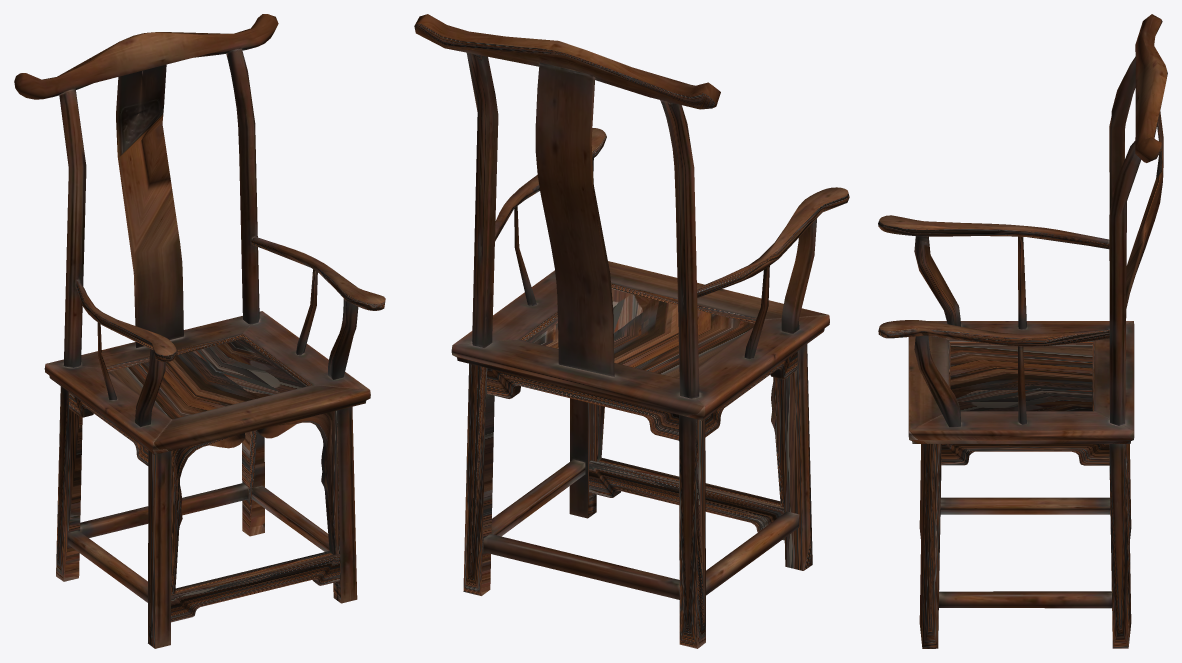
The model's file is chinese_armchair.glb.
3 renders of one model, left to right at view 1: azimuth 30°, elevation 25°; view 2: azimuth 150°, elevation 25°; view 3: azimuth 270°, elevation 25°, orthographic. The views are drawn at different scales.
Visible parts, largest first — view 1: chinese_armchair; view 2: chinese_armchair; view 3: chinese_armchair.
Boxes of the visible parts, <box> form: chinese_armchair: <box>14,14,385,648</box>; chinese_armchair: <box>414,14,849,648</box>; chinese_armchair: <box>878,14,1167,648</box>.
Bounding box in the file's own units: 0.8482 × 1.59 × 0.7887.
1 material, 1 textured.
